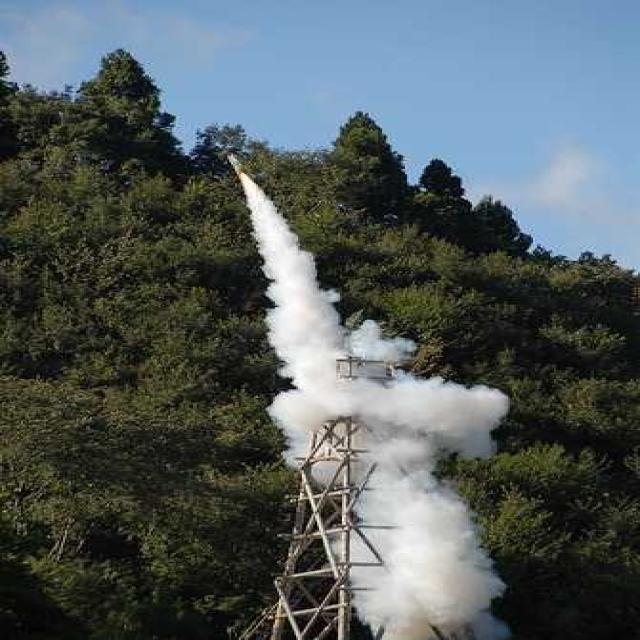missile: (219, 149, 254, 179)
